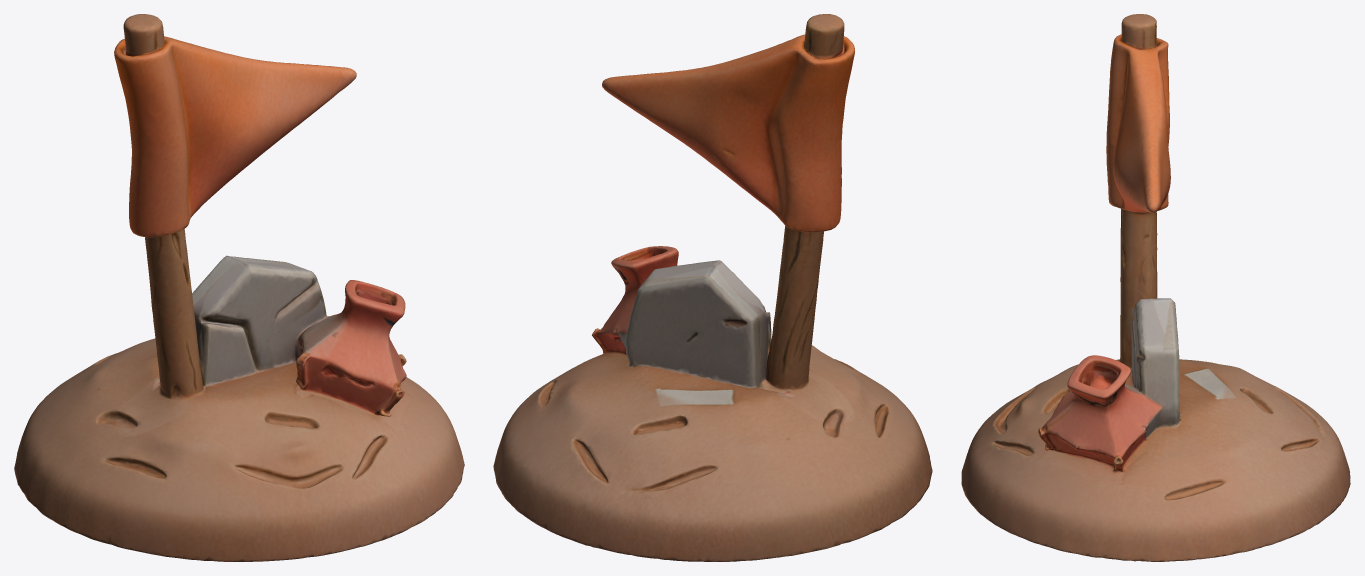
The model's file is DDP_발굴표식.glb.
3 views of the same model, side by side, from view 1: azimuth 30°, elevation 25°; view 2: azimuth 150°, elevation 25°; view 3: azimuth 270°, elevation 25° (orthographic). The views are drawn at different scales.
Parts seen in each view (by area): view 1: texture_mapping; view 2: texture_mapping; view 3: texture_mapping.
Boxes of the visible parts, <box> form: texture_mapping: <box>14,14,464,561</box>; texture_mapping: <box>493,14,932,561</box>; texture_mapping: <box>961,14,1350,561</box>.
Size of the model in its own units: 0.8418 by 0.9878 by 0.836.
Materials: 1 (1 with a texture image).
